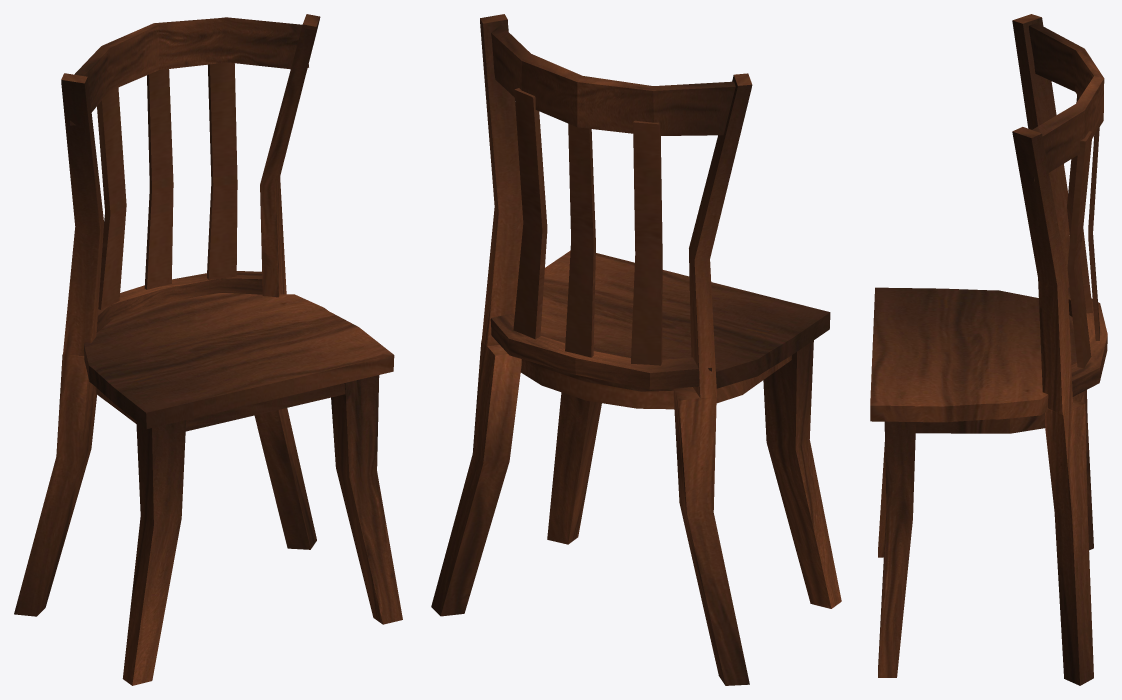
Rendered from wooden_chair_tex.obj.
3 views of the same model, side by side, from view 1: azimuth 30°, elevation 25°; view 2: azimuth 150°, elevation 25°; view 3: azimuth 270°, elevation 25° (orthographic). The views are drawn at different scales.
Visible parts, largest first — view 1: polySurface14; view 2: polySurface14; view 3: polySurface14.
Boxes of the visible parts, bbox=[...] form: polySurface14: bbox=[14, 14, 402, 685]; polySurface14: bbox=[431, 14, 841, 685]; polySurface14: bbox=[870, 14, 1107, 685].
Bounding box in the file's own units: 9.77 × 16.89 × 6.75.
